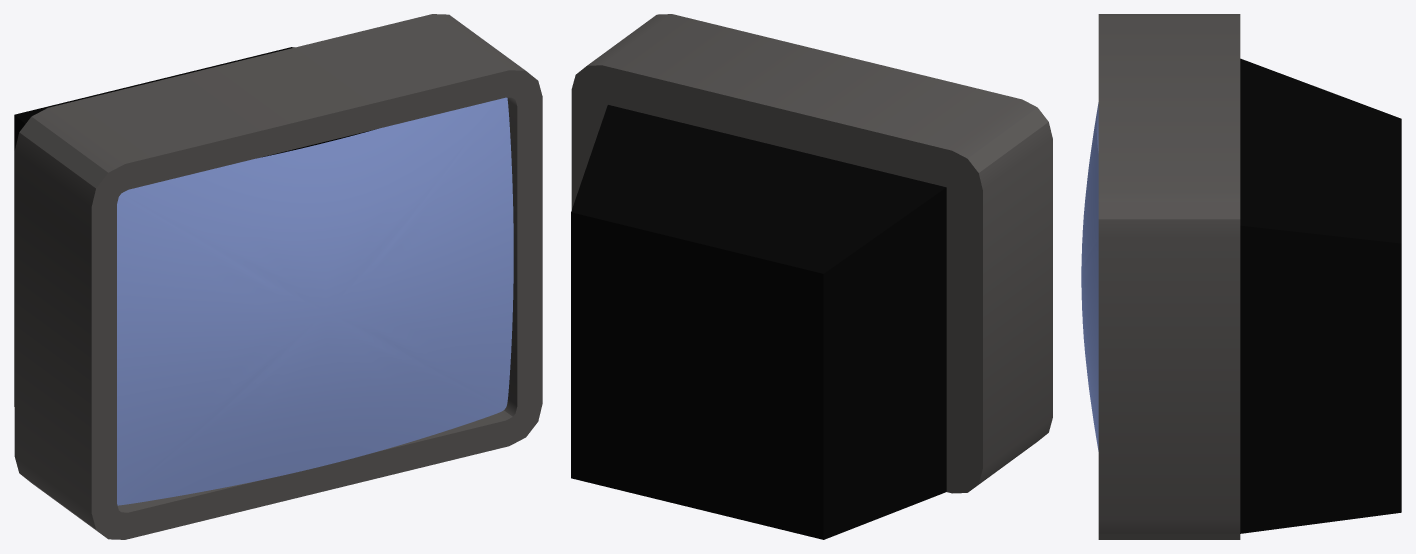
3 renders of one model, left to right at view 1: azimuth 30°, elevation 25°; view 2: azimuth 150°, elevation 25°; view 3: azimuth 270°, elevation 25°, orthographic. The views are drawn at different scales.
Parts seen in each view (by area): view 1: Cube.001, Cube; view 2: Cube; view 3: Cube, Cube.001.
Part boxes in pixels (x1,y1,x2,y2): Cube.001: (117, 97, 513, 505); Cube: (14, 14, 542, 539); Cube: (571, 14, 1052, 539); Cube: (1098, 14, 1401, 539); Cube.001: (1081, 102, 1098, 451).
Bounding box in the file's own units: 678 × 540 × 452.
